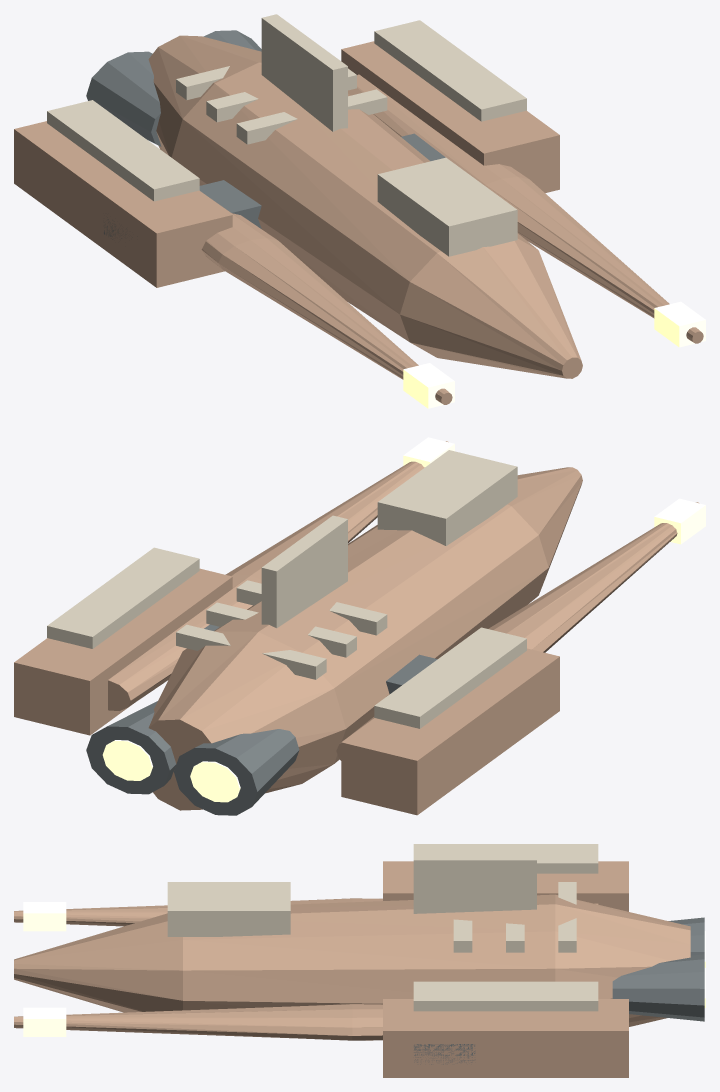
The picture shows the model from 3 angles, top to bottom: view 1: azimuth 30°, elevation 25°; view 2: azimuth 150°, elevation 25°; view 3: azimuth 270°, elevation 25°; orthographic projection. The views are drawn at different scales.
Size of the model in its own units: 2.48 by 1.21 by 4.27.
